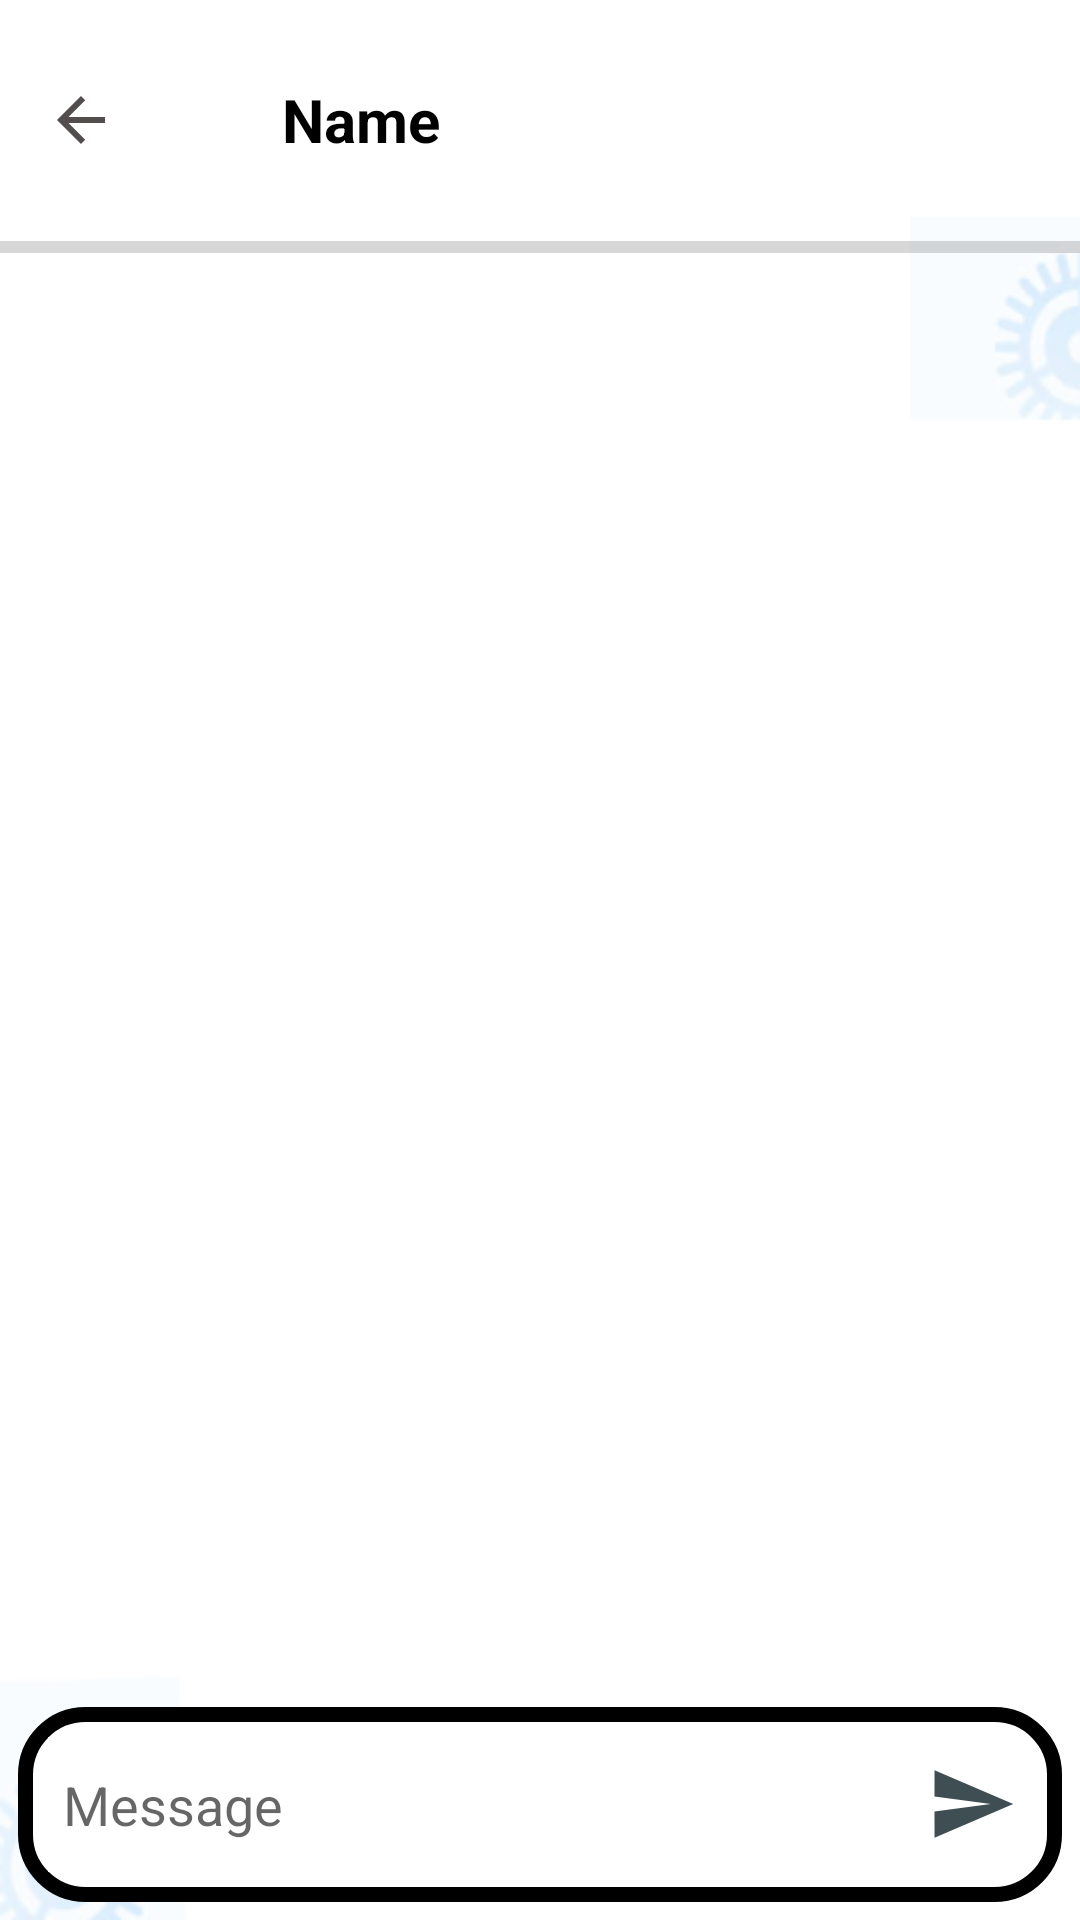

Where to tap for icons on this 1080px×1920px app screen, as (x,y):
arrow back: (81,120)
send: (973,1804)
